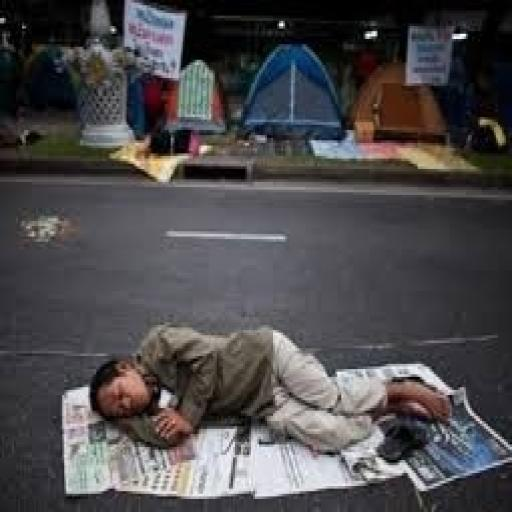sleeping: (86, 317, 454, 455)
